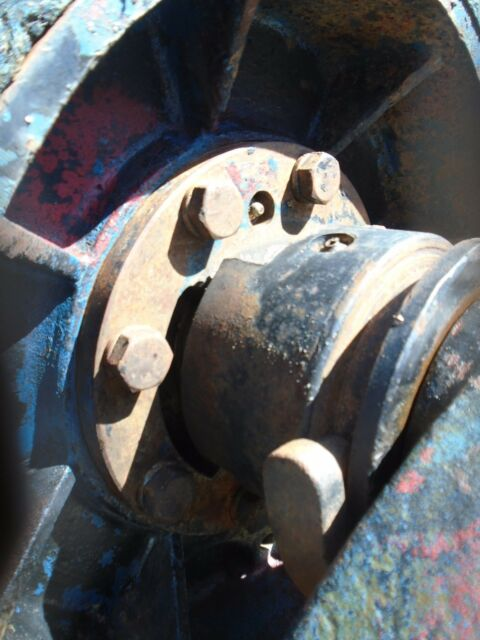bolt_a: (103, 325, 175, 394), (183, 174, 247, 241), (294, 144, 342, 206)
vague: (139, 460, 200, 526)
